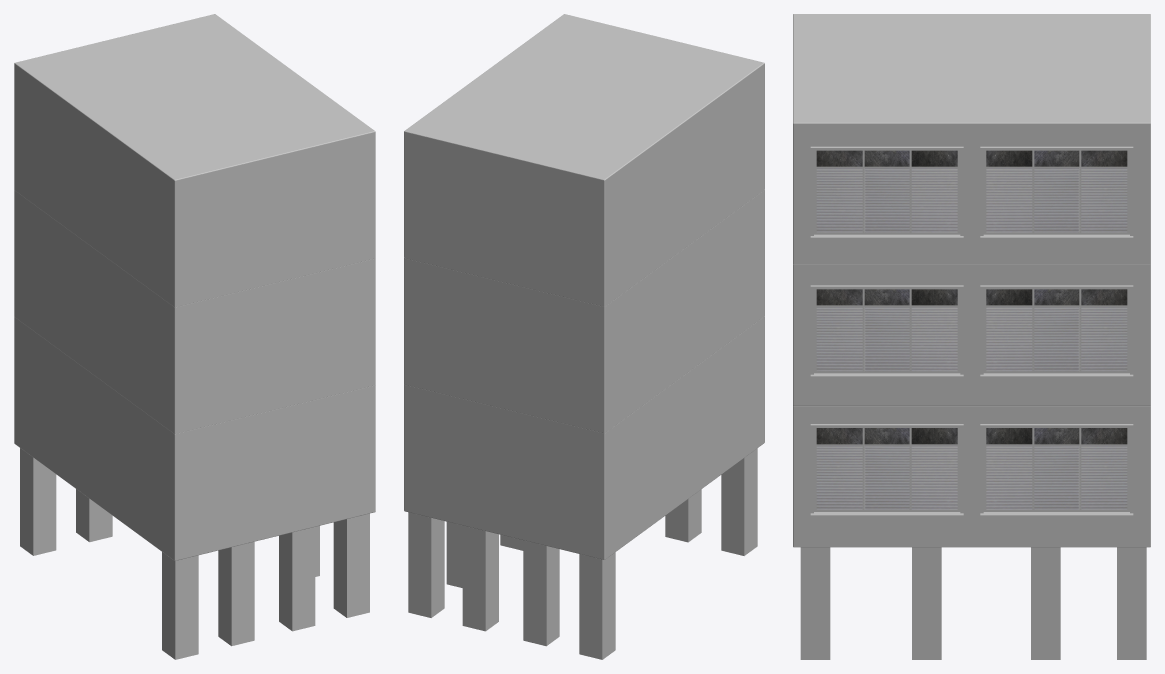
File: Building 2.fbx
The picture shows the model from 3 angles, left to right: view 1: azimuth 30°, elevation 25°; view 2: azimuth 150°, elevation 25°; view 3: azimuth 270°, elevation 25°; orthographic projection. The views are drawn at different scales.
Visible parts, largest first — view 1: Building 2, Column.008, Column.004, Column.007, Column.002, Column.009, Column.006; view 2: Building 2, Column.009, Column.005, Column.006, Column, Column.008, Column.007, Column.003; view 3: Building 2, Window 2, Column.002, Column.003, Column.001, Column.
Part boxes in pixels (x1=…): Building 2: x1=14, y1=14, x2=375, y2=560; Column.008: x1=162, y1=552, x2=198, y2=659; Column.004: x1=279, y1=527, x2=315, y2=631; Column.007: x1=218, y1=541, x2=254, y2=646; Column.002: x1=333, y1=513, x2=369, y2=617; Column.009: x1=20, y1=448, x2=56, y2=555; Column.006: x1=76, y1=489, x2=112, y2=542; Building 2: x1=404, y1=14, x2=764, y2=559; Column.009: x1=579, y1=552, x2=615, y2=659; Column.005: x1=462, y1=525, x2=498, y2=631; Column.006: x1=523, y1=540, x2=559, y2=646; Column: x1=408, y1=512, x2=444, y2=617; Column.008: x1=721, y1=448, x2=757, y2=555; Column.007: x1=665, y1=489, x2=701, y2=542; Column.003: x1=446, y1=522, x2=462, y2=587; Building 2: x1=793, y1=14, x2=1150, y2=547; Window 2: x1=810, y1=146, x2=1133, y2=519; Column.002: x1=800, y1=547, x2=830, y2=659; Column.003: x1=1031, y1=547, x2=1060, y2=659; Column.001: x1=912, y1=547, x2=941, y2=659; Column: x1=1117, y1=547, x2=1146, y2=659.
Bounding box in the file's own units: 412 × 918 × 553.
